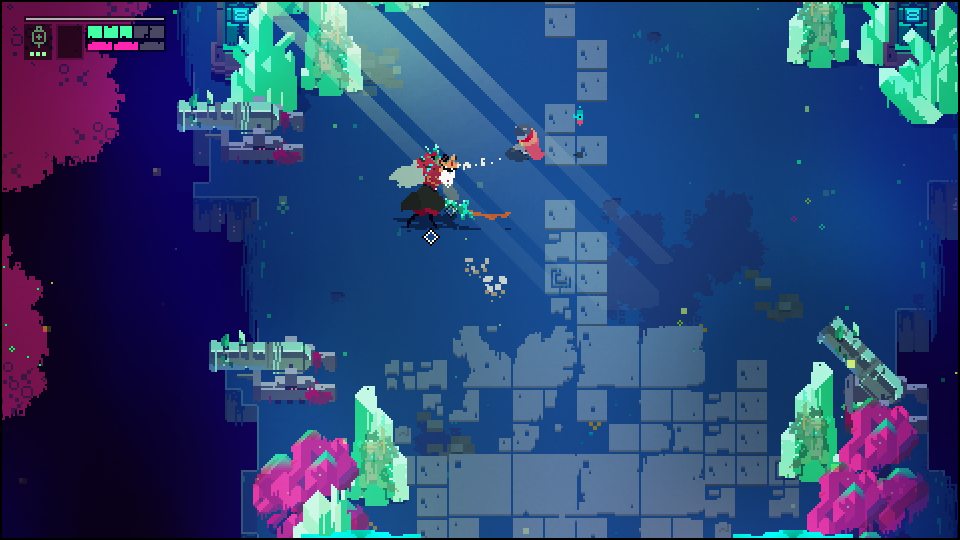hanged_man: (384, 143, 487, 235)
player: (504, 120, 550, 171)
